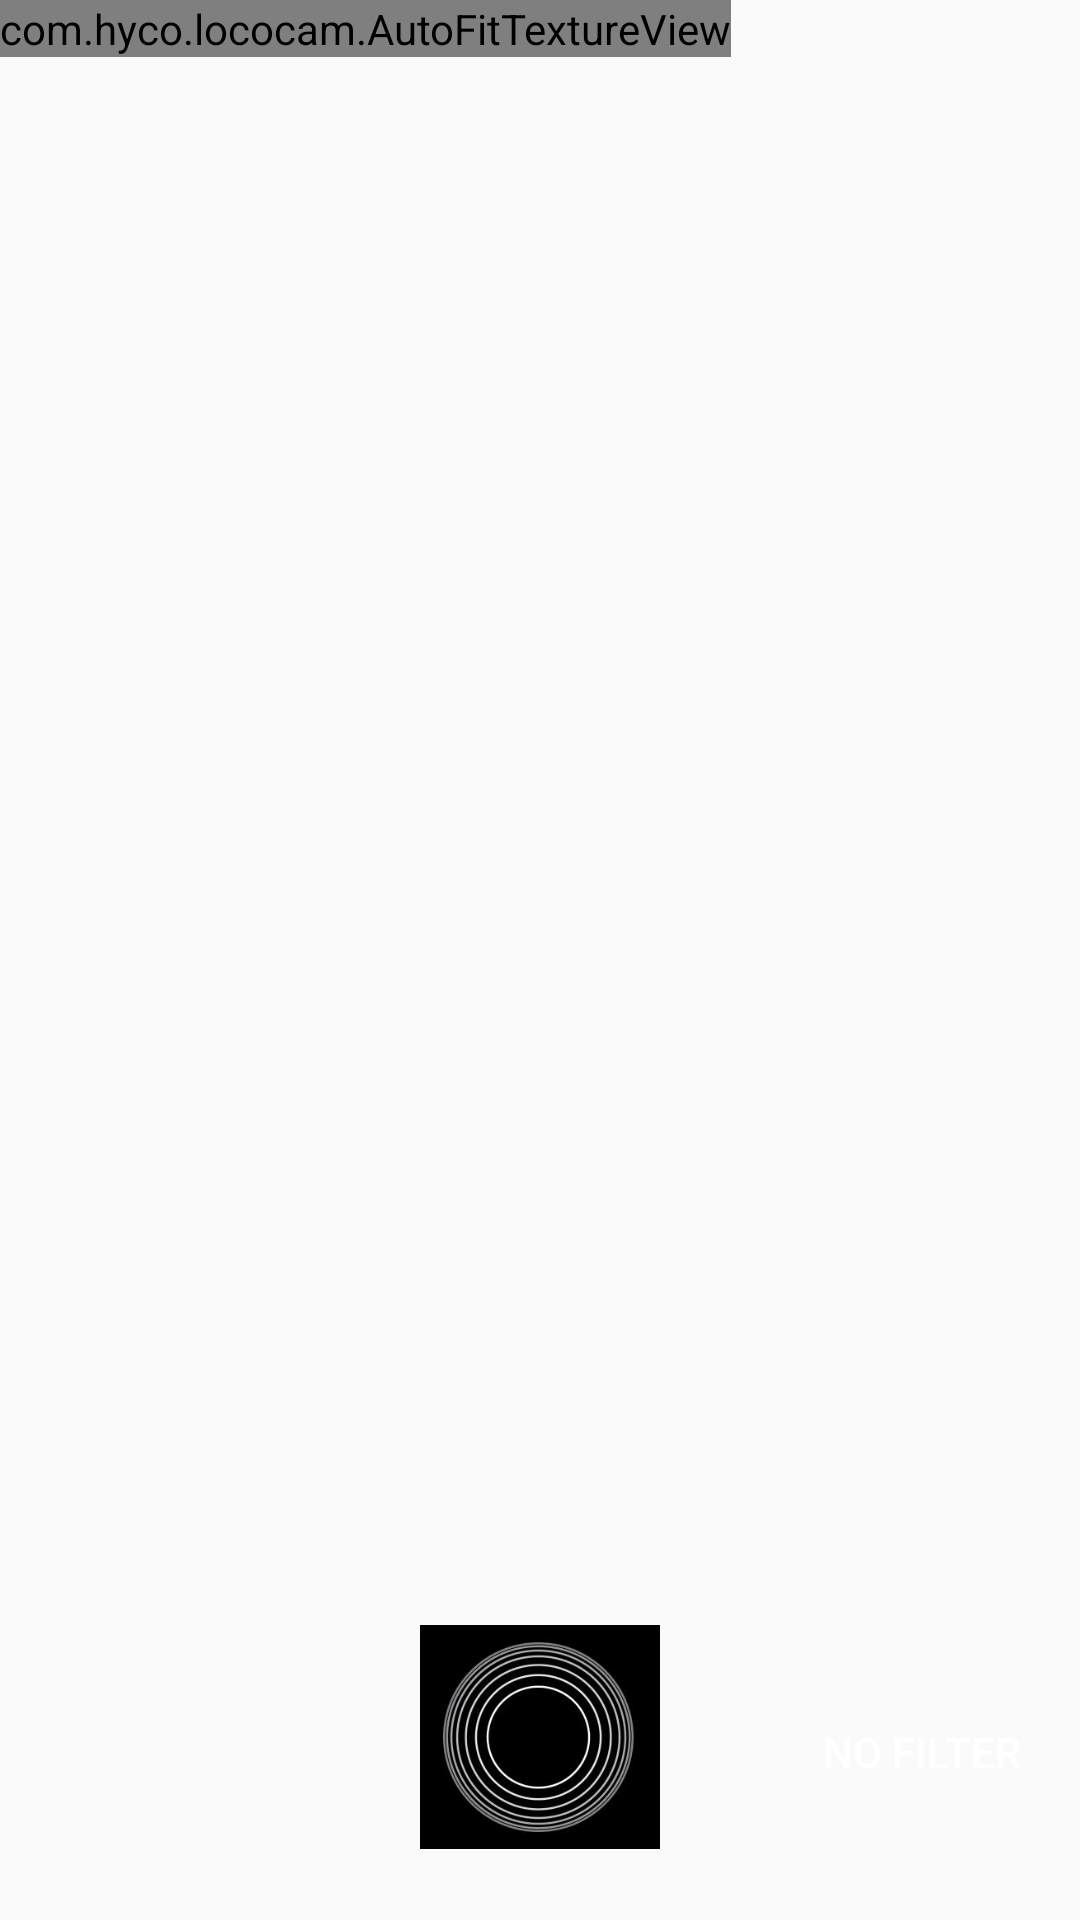

Icons on this 1080 x 1920 Android screen, each with its box as (x1, y1, x2, y2):
shutter: (420, 1625, 660, 1849)
